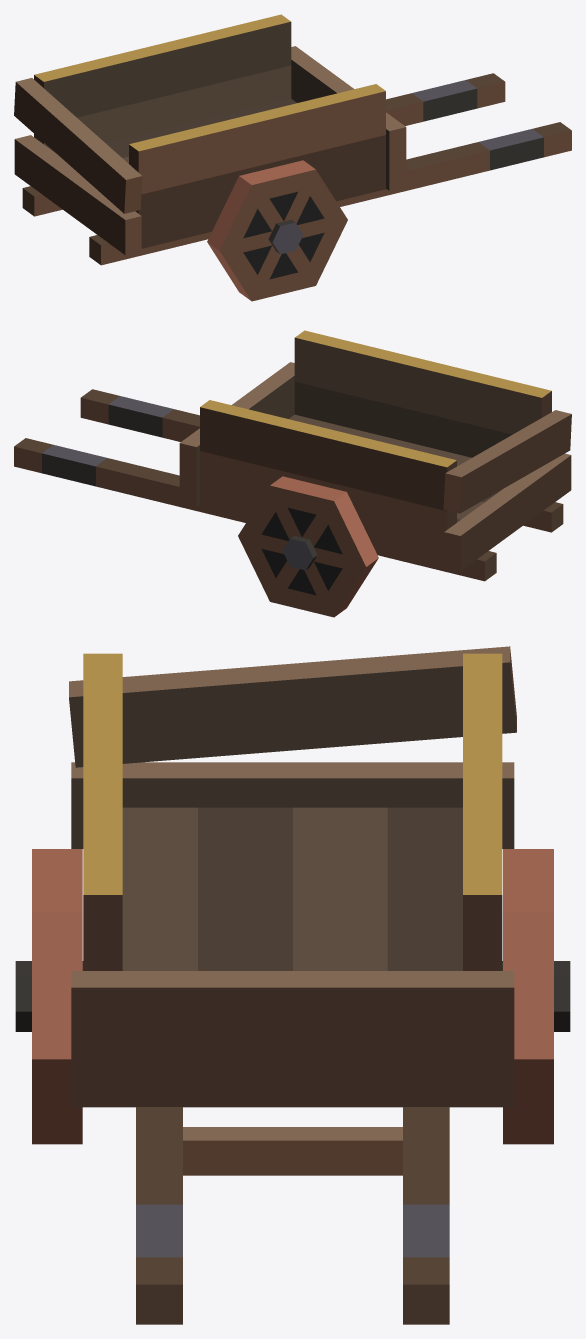
Rendered from TB_D_Prop_Wagon_B.FBX.
The picture shows the model from 3 angles, top to bottom: view 1: azimuth 30°, elevation 25°; view 2: azimuth 150°, elevation 25°; view 3: azimuth 270°, elevation 25°; orthographic projection. The views are drawn at different scales.
Visible parts, largest first — view 1: TB_D_Prop_Wagon_B, TB_D_Prop_WagonWheel_B; view 2: TB_D_Prop_Wagon_B, TB_D_Prop_WagonWheel_B; view 3: TB_D_Prop_Wagon_B, TB_D_Prop_WagonWheel_B.
Part boxes in pixels (<box>): TB_D_Prop_Wagon_B: <box>14,14,571,265</box>; TB_D_Prop_WagonWheel_B: <box>207,160,347,301</box>; TB_D_Prop_Wagon_B: <box>14,330,571,581</box>; TB_D_Prop_WagonWheel_B: <box>238,476,378,617</box>; TB_D_Prop_Wagon_B: <box>15,646,570,1324</box>; TB_D_Prop_WagonWheel_B: <box>32,849,553,1144</box>.
Bounding box in the file's own units: 5.57 × 1.87 × 2.84.
